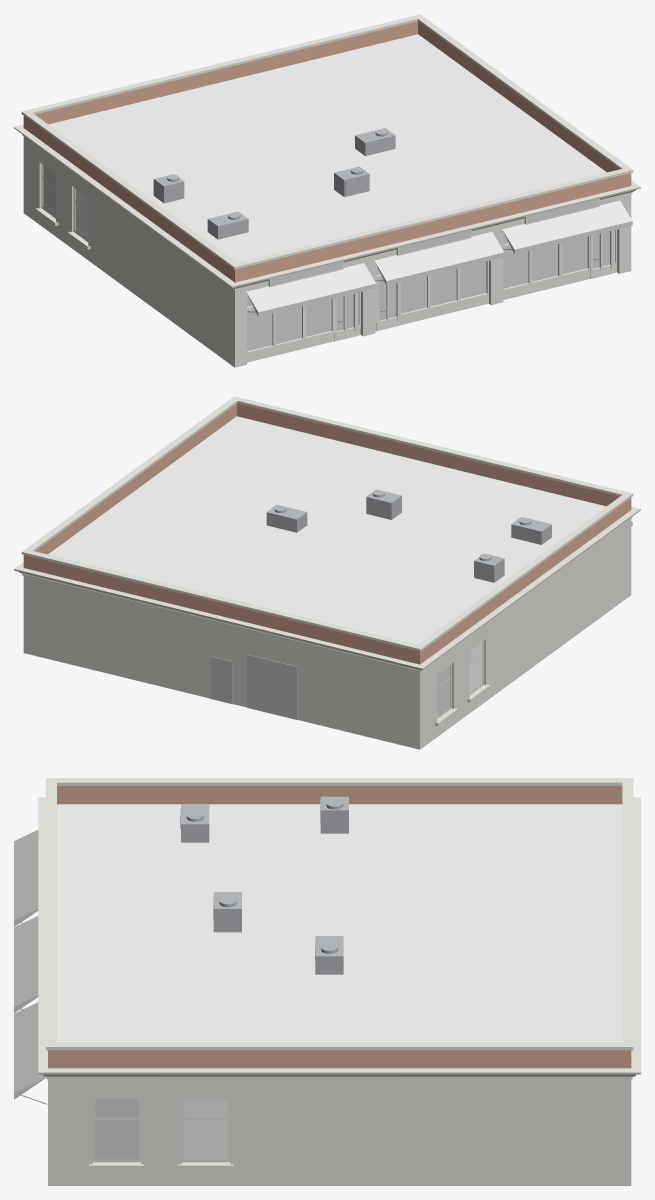
The model's file is midtown_w78f0b.glb.
3 renders of one model, top to bottom at view 1: azimuth 30°, elevation 25°; view 2: azimuth 150°, elevation 25°; view 3: azimuth 270°, elevation 25°, orthographic. The views are drawn at different scales.
Parts seen in each view (by area): view 1: midtown_w78f0b_Roof, midtown_w78f0b_Trim, midtown_w78f0b_Walls, midtown_w78f0b_Awning, midtown_w78f0b_WindowsLit, midtown_w78f0b_Frames, midtown_w78f0b_Details, midtown_w78f0b_Sign, midtown_w78f0b_Glass; view 2: midtown_w78f0b_Roof, midtown_w78f0b_Trim, midtown_w78f0b_Walls, midtown_w78f0b_Doors, midtown_w78f0b_Details, midtown_w78f0b_WindowsLit, midtown_w78f0b_Glass; view 3: midtown_w78f0b_Roof, midtown_w78f0b_Trim, midtown_w78f0b_Walls, midtown_w78f0b_Awning, midtown_w78f0b_Details, midtown_w78f0b_Glass, midtown_w78f0b_WindowsLit, midtown_w78f0b_Frames.
Part boxes in pixels (x1,y1,x2,y2): midtown_w78f0b_Roof: (48, 34, 606, 262); midtown_w78f0b_Trim: (14, 14, 640, 367); midtown_w78f0b_Walls: (23, 21, 631, 282); midtown_w78f0b_Awning: (246, 200, 632, 316); midtown_w78f0b_WindowsLit: (43, 165, 609, 351); midtown_w78f0b_Frames: (41, 164, 616, 354); midtown_w78f0b_Details: (153, 128, 599, 322); midtown_w78f0b_Sign: (271, 199, 598, 285); midtown_w78f0b_Glass: (75, 189, 88, 239); midtown_w78f0b_Roof: (48, 416, 606, 644); midtown_w78f0b_Trim: (14, 396, 640, 749); midtown_w78f0b_Walls: (23, 403, 631, 664); midtown_w78f0b_Doors: (210, 654, 297, 719); midtown_w78f0b_Details: (266, 489, 551, 582); midtown_w78f0b_WindowsLit: (437, 665, 450, 716); midtown_w78f0b_Glass: (469, 641, 482, 692); midtown_w78f0b_Roof: (57, 804, 622, 1042); midtown_w78f0b_Trim: (38, 778, 640, 1185); midtown_w78f0b_Walls: (48, 786, 631, 1068); midtown_w78f0b_Awning: (14, 830, 46, 1099); midtown_w78f0b_Details: (20, 796, 348, 1104); midtown_w78f0b_Glass: (184, 1099, 227, 1159); midtown_w78f0b_WindowsLit: (95, 1099, 138, 1159); midtown_w78f0b_Frames: (92, 1098, 230, 1162).
Size of the model in its own units: 80.4 by 19.62 by 77.4.
